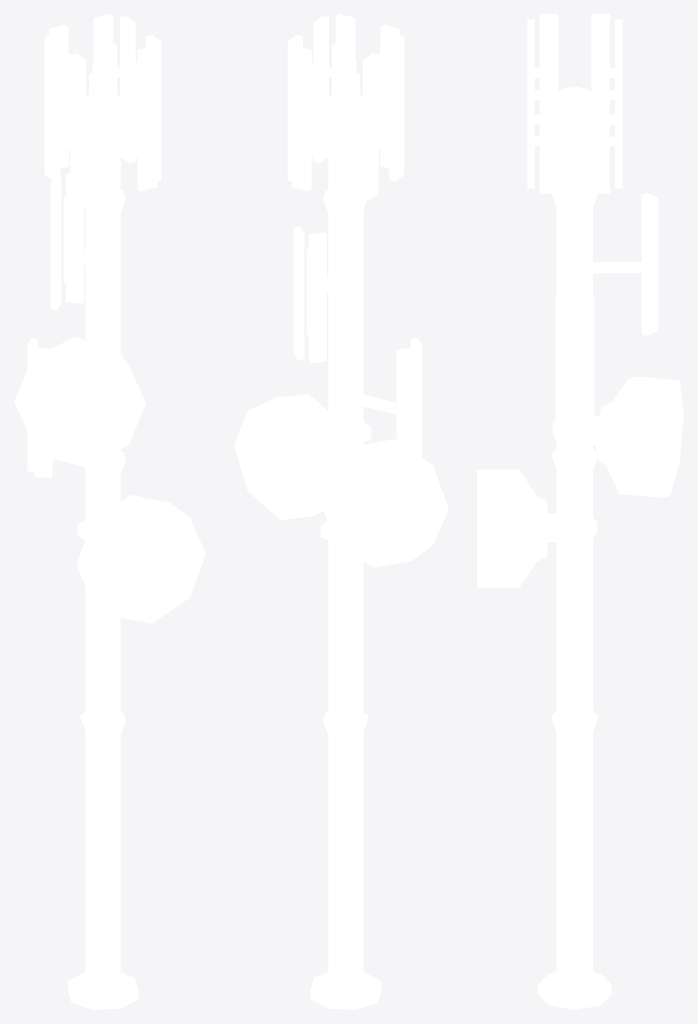
Rendered from cell-tower-basic.glb.
3 renders of one model, left to right at view 1: azimuth 30°, elevation 25°; view 2: azimuth 150°, elevation 25°; view 3: azimuth 270°, elevation 25°, orthographic.
Parts seen in each view (by area): view 1: cell-tower-basic; view 2: cell-tower-basic; view 3: cell-tower-basic.
Boxes of the visible parts, x1,y1,x2,y2 form: cell-tower-basic: (14,14,205,1009); cell-tower-basic: (234,14,448,1009); cell-tower-basic: (477,14,683,1009).
Bounding box in the file's own units: 3.05 × 19.43 × 3.79.
1 material, 1 textured.
